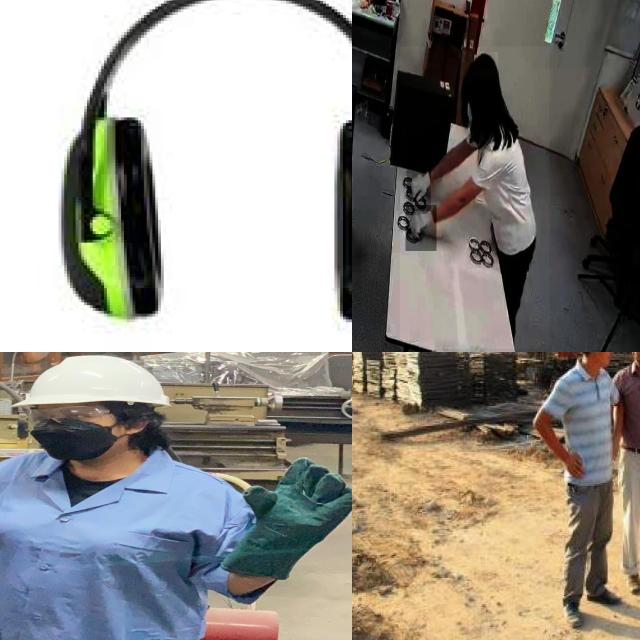Ear-protection: (58, 109, 164, 319), (328, 108, 352, 322)
face_mask: (19, 402, 122, 460)
face_nomask: (596, 352, 617, 364)
glasses: (16, 404, 122, 428)
hand_glove: (235, 455, 352, 541), (405, 205, 437, 252), (407, 163, 431, 211)
hand_noglove: (562, 447, 589, 482)
head_helmet: (12, 354, 174, 409)
head_nohelmet: (464, 52, 498, 83)
person: (0, 352, 352, 640), (400, 46, 550, 350), (538, 352, 619, 630), (607, 352, 640, 594)
shoes: (560, 594, 589, 633), (584, 580, 621, 607), (622, 568, 640, 598)
